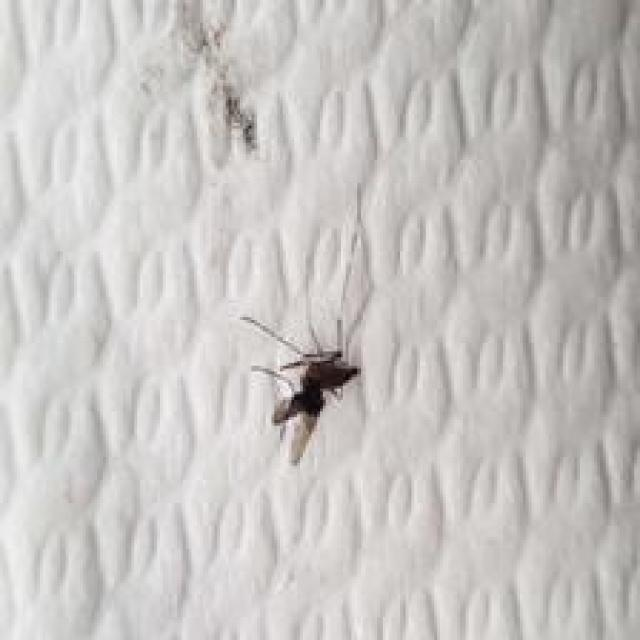Aedes albopictus: (238, 313, 362, 467)
